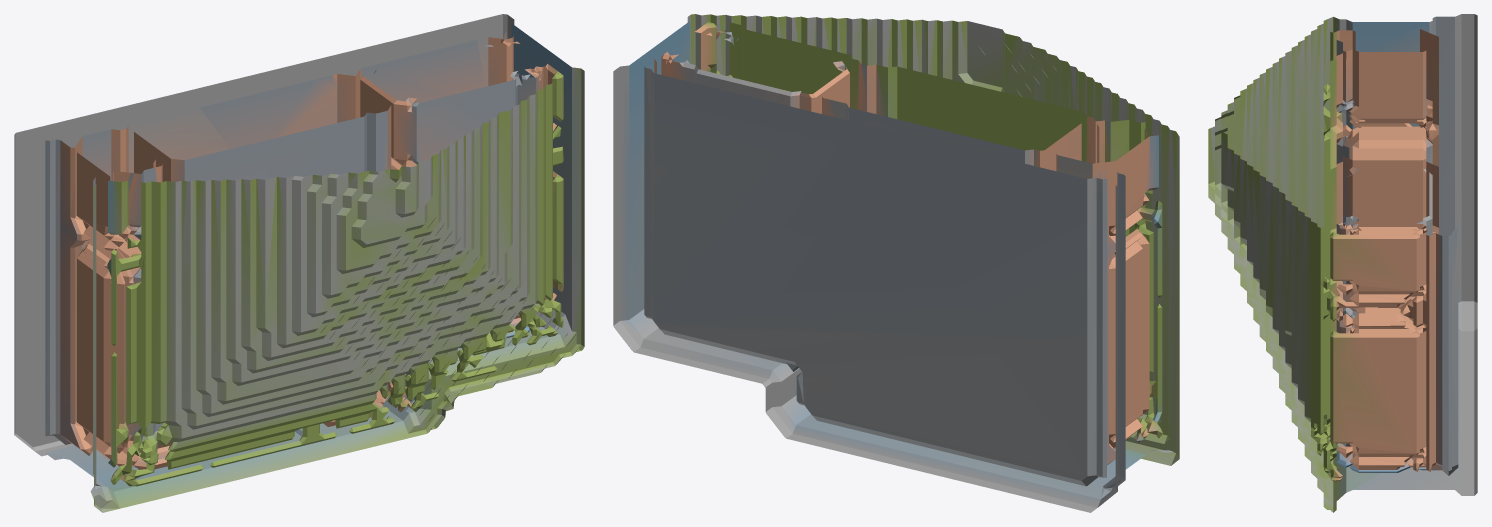
Rendered from ref_v12_u_cutaway.glb.
3 views of the same model, side by side, from view 1: azimuth 30°, elevation 25°; view 2: azimuth 150°, elevation 25°; view 3: azimuth 270°, elevation 25° (orthographic). The views are drawn at different scales.
Parts seen in each view (by area): view 1: world; view 2: world; view 3: world.
Part boxes in pixels (<box>): world: <box>14,14,584,512</box>; world: <box>613,14,1179,512</box>; world: <box>1208,14,1477,512</box>.
Size of the model in its own units: 85 by 54 by 42.
